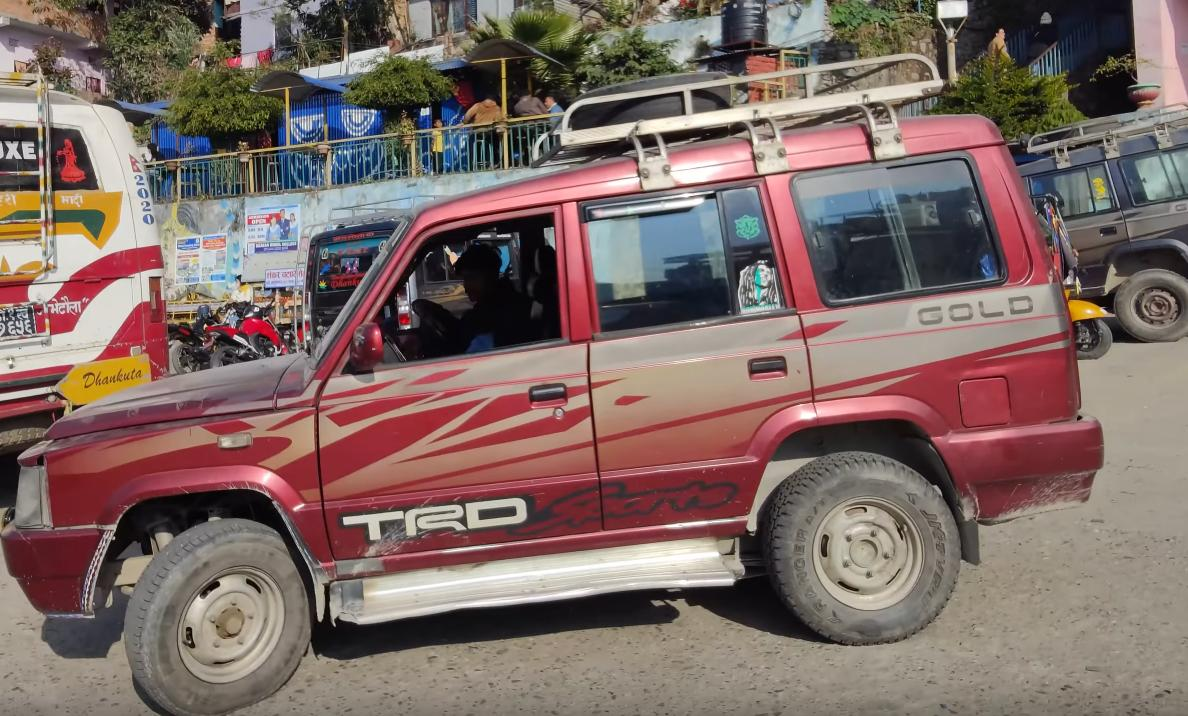SUV: (2, 43, 1106, 716), (1025, 96, 1188, 351)
bike: (208, 294, 286, 370)
bus: (0, 71, 173, 468)
